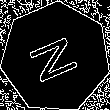N_NE: (25, 29, 87, 86)
